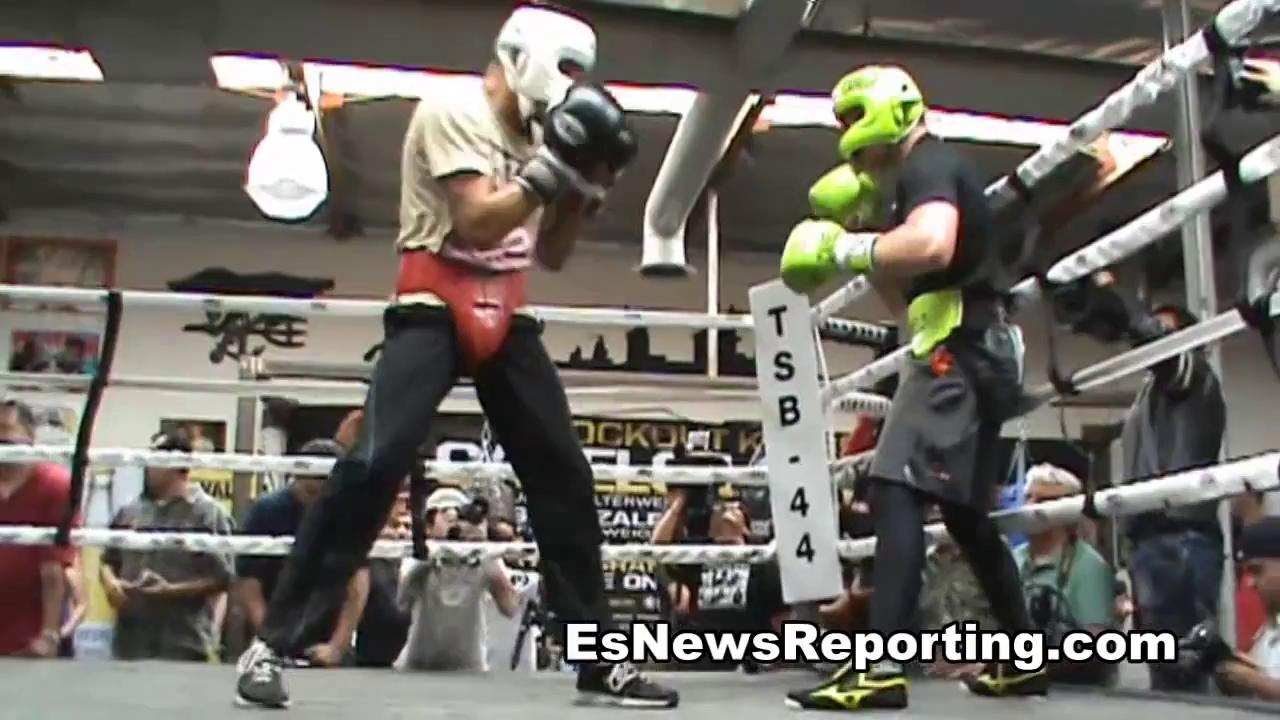person: (235, 7, 678, 707), (781, 65, 1048, 717)
